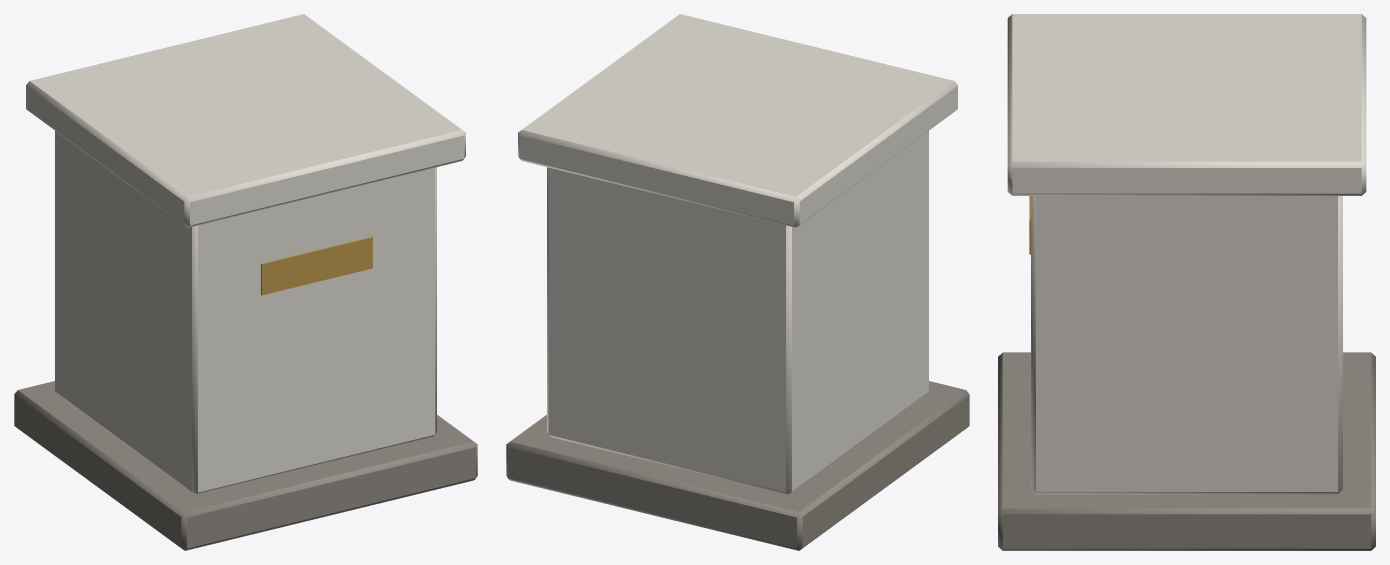
Rendered from plinth.glb.
3 views of the same model, side by side, from view 1: azimuth 30°, elevation 25°; view 2: azimuth 150°, elevation 25°; view 3: azimuth 270°, elevation 25° (orthographic). The views are drawn at different scales.
Visible parts, largest first — view 1: Plinth; view 2: Plinth; view 3: Plinth.
Boxes of the visible parts, x1,y1,x2,y2 form: Plinth: (14, 14, 477, 550); Plinth: (506, 14, 969, 550); Plinth: (998, 14, 1375, 550).
Bounding box in the file's own units: 0.8 × 0.9 × 0.8.
